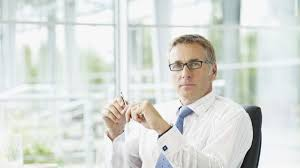Glasses: (162, 60, 209, 74)
